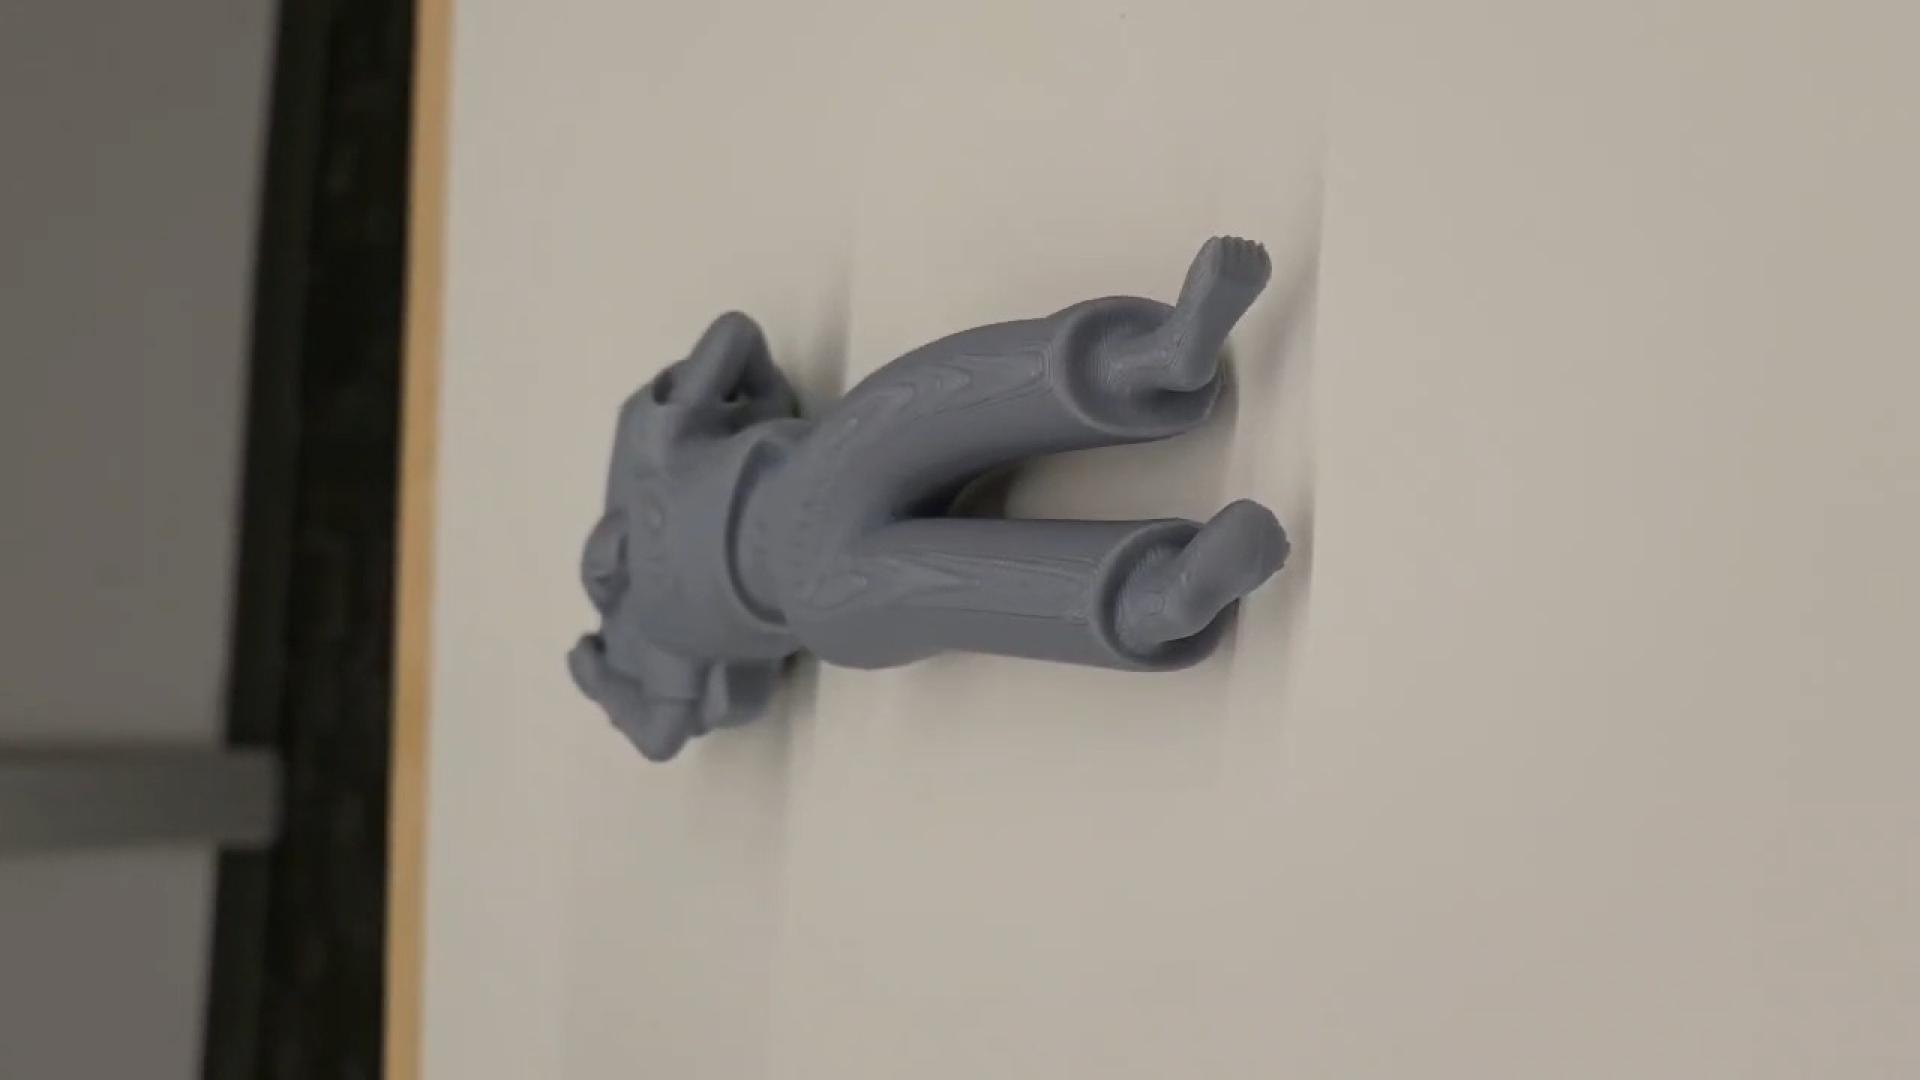Bad-style: (568, 214, 1299, 764)
